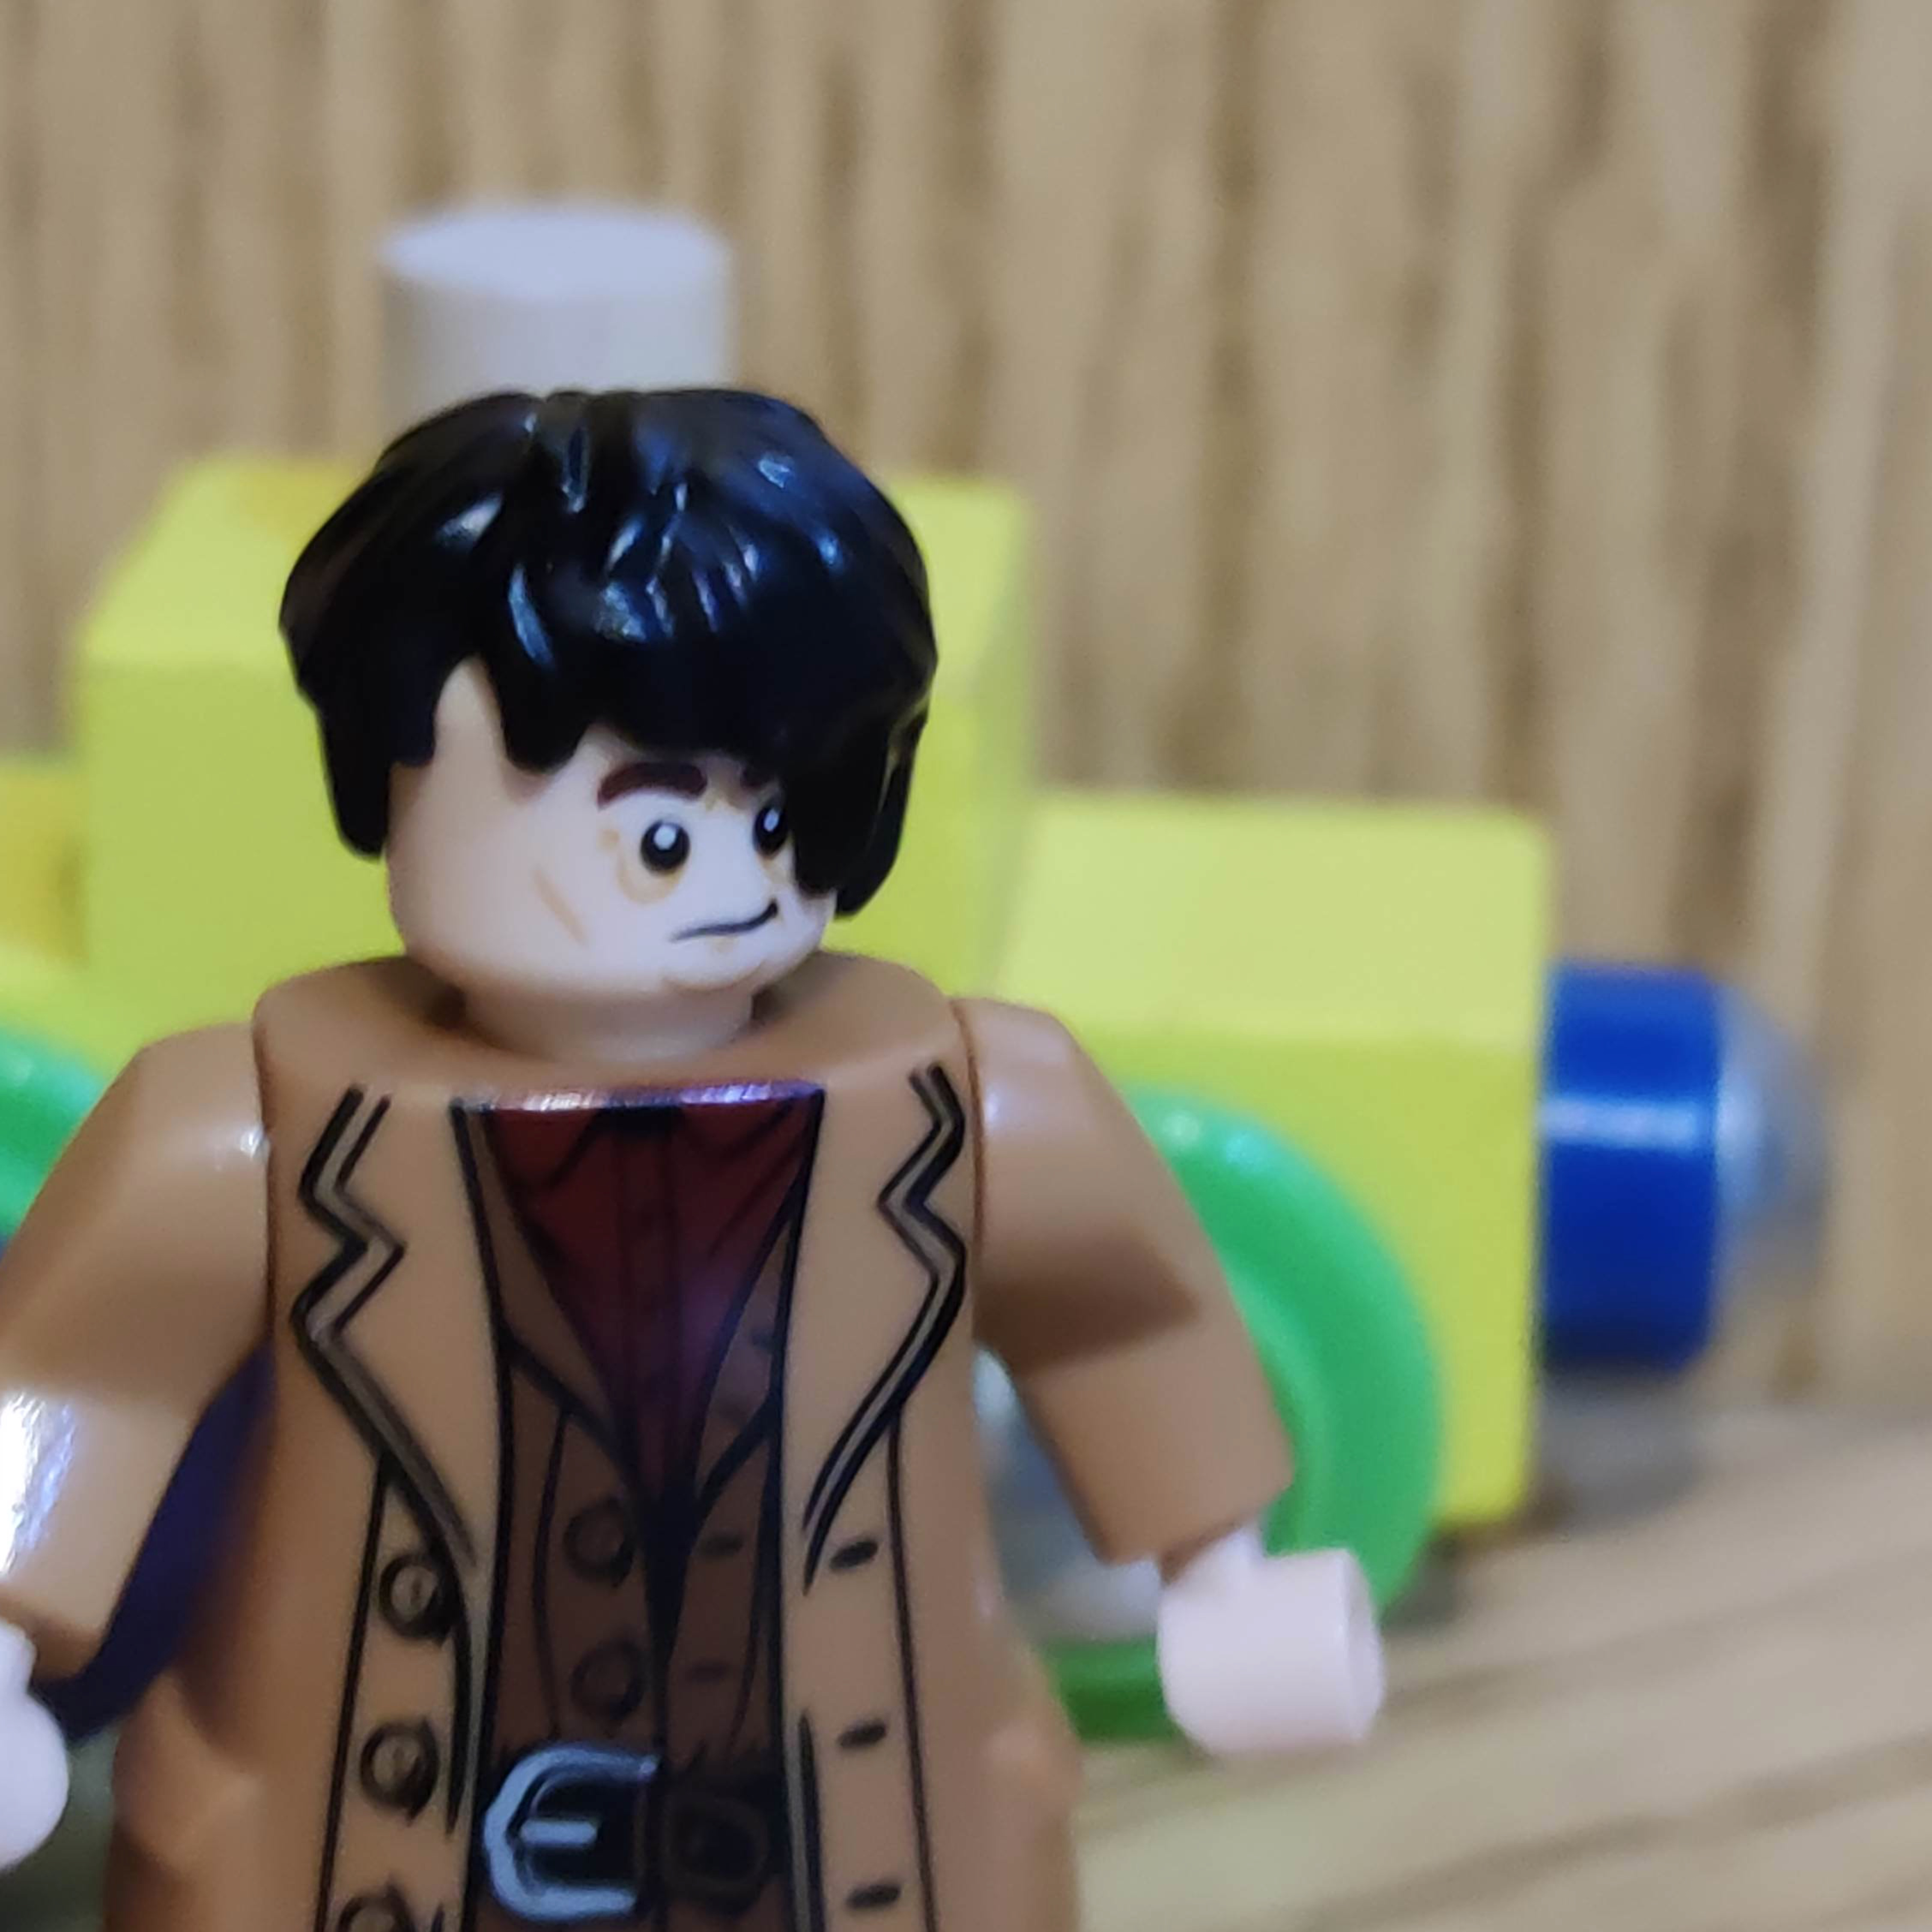lego: (5, 382, 1385, 1932)
